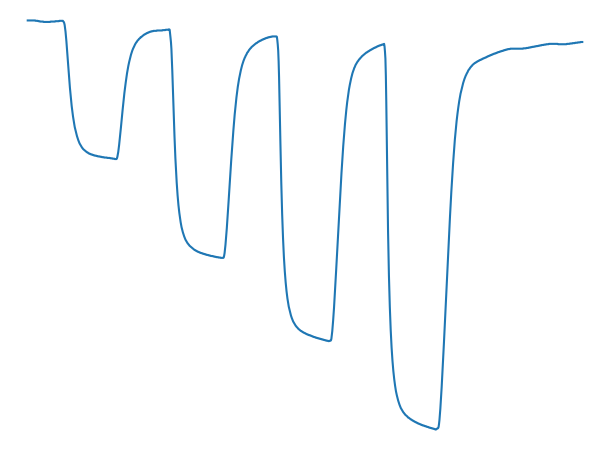decrease: (270, 29, 283, 52), (378, 36, 390, 60), (163, 23, 176, 45), (58, 15, 70, 38)
increase: (110, 145, 123, 164), (217, 244, 229, 263), (324, 327, 336, 346), (432, 415, 444, 434)
